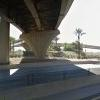Bridge: (3, 5, 81, 69)
